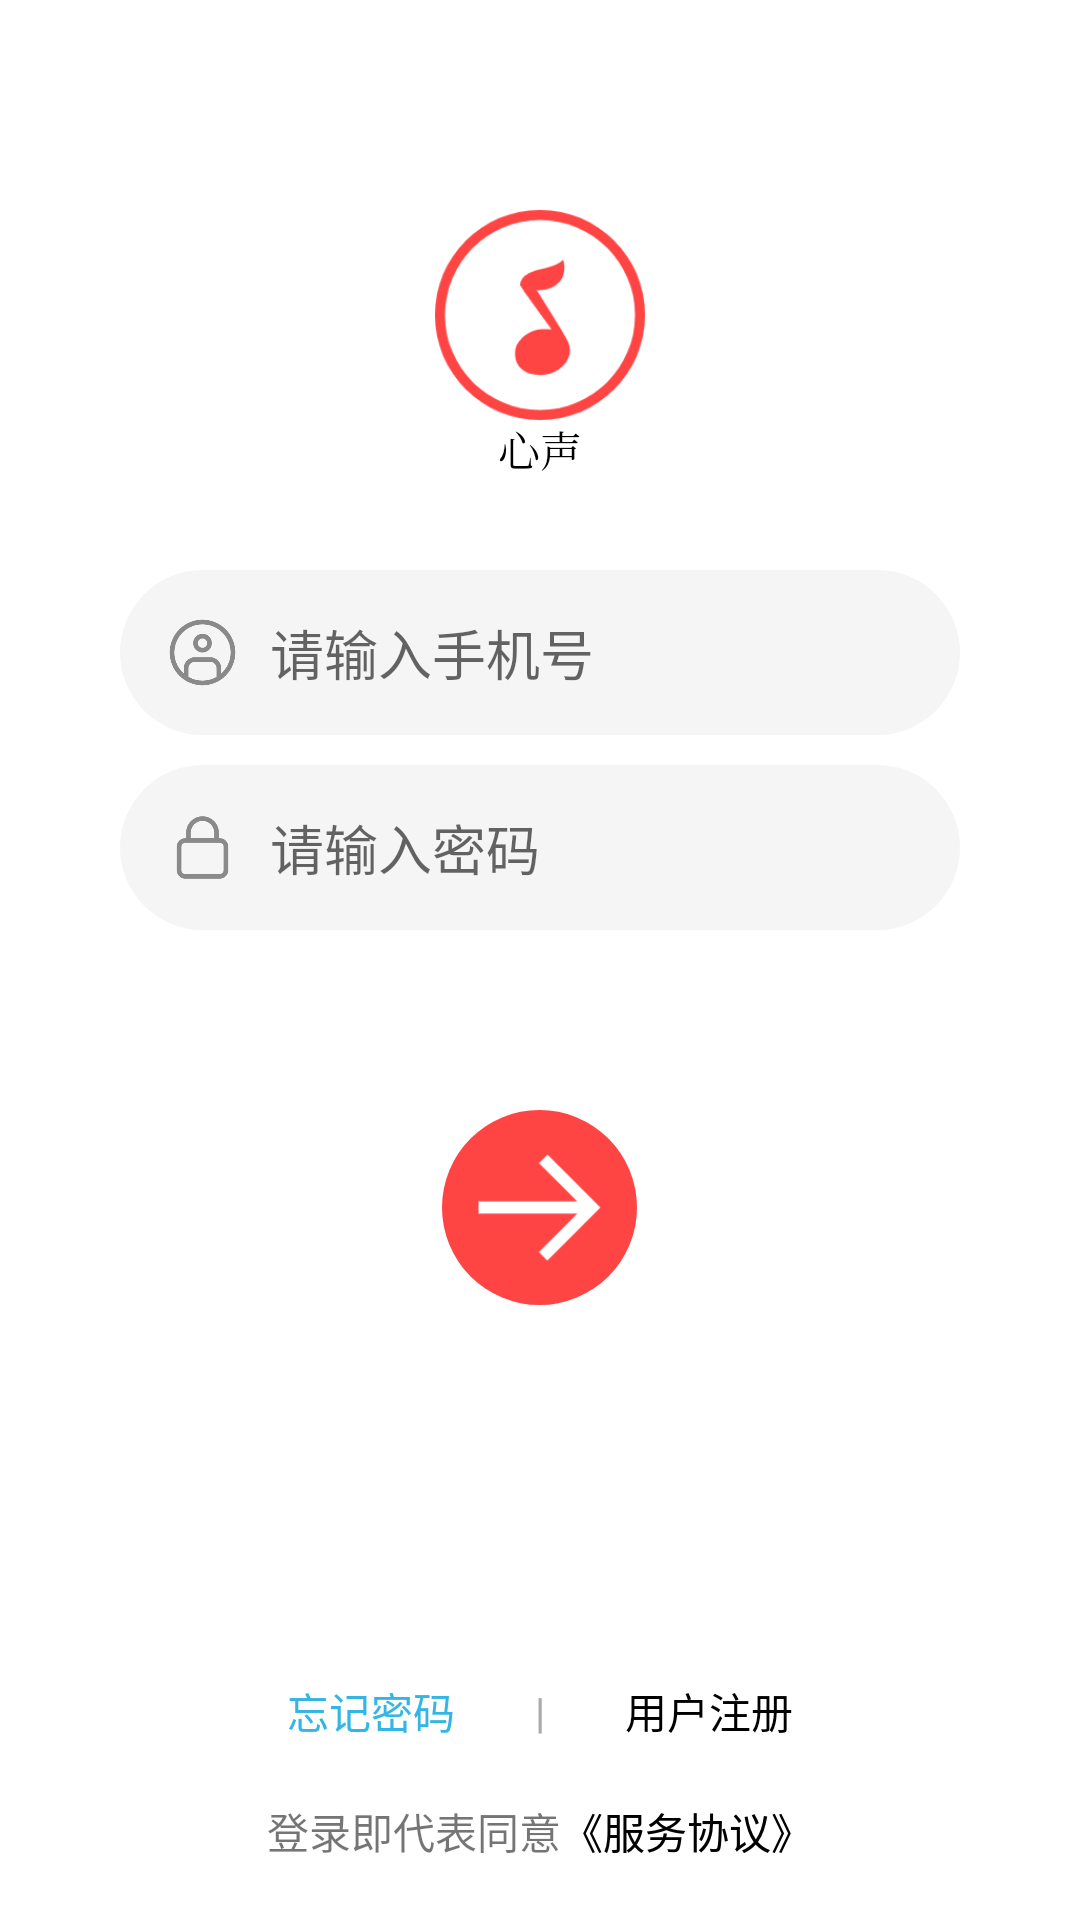

Icons on this 1080 × 1920 Android screen, each with the point to tap as (x,y):
app: (540,315)
go login: (539,1207)
user account: (202,652)
user password: (202,847)
